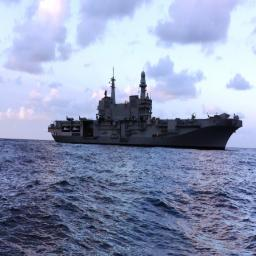Portanaves: (48, 65, 245, 153)
